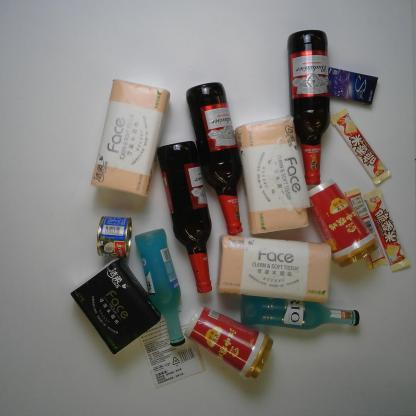Alcohol: (185, 82, 245, 236), (156, 139, 212, 294), (286, 29, 332, 186), (134, 227, 186, 348), (238, 293, 361, 331)
Canned Food: (96, 216, 133, 260)
Chocolate: (330, 108, 392, 186), (363, 188, 411, 272), (344, 186, 388, 271)
Gum: (327, 66, 379, 105)
Instant Drink: (304, 177, 382, 268), (183, 305, 273, 380)
Stationery: (139, 297, 207, 389)
Tissue: (88, 77, 172, 198), (234, 112, 313, 236), (69, 255, 162, 356), (214, 233, 334, 303)
